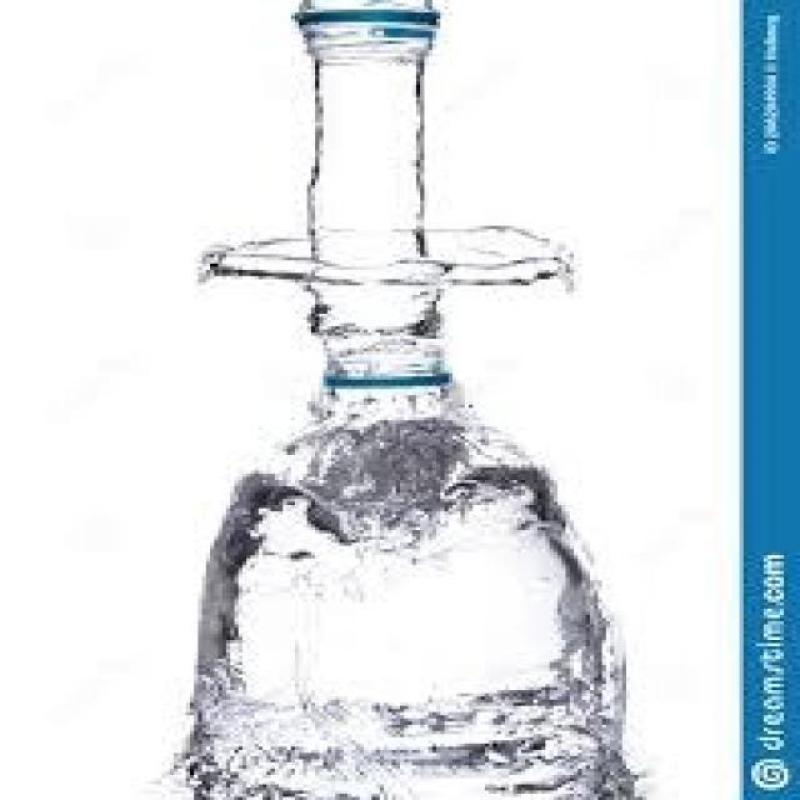botella: (181, 341, 625, 800)
